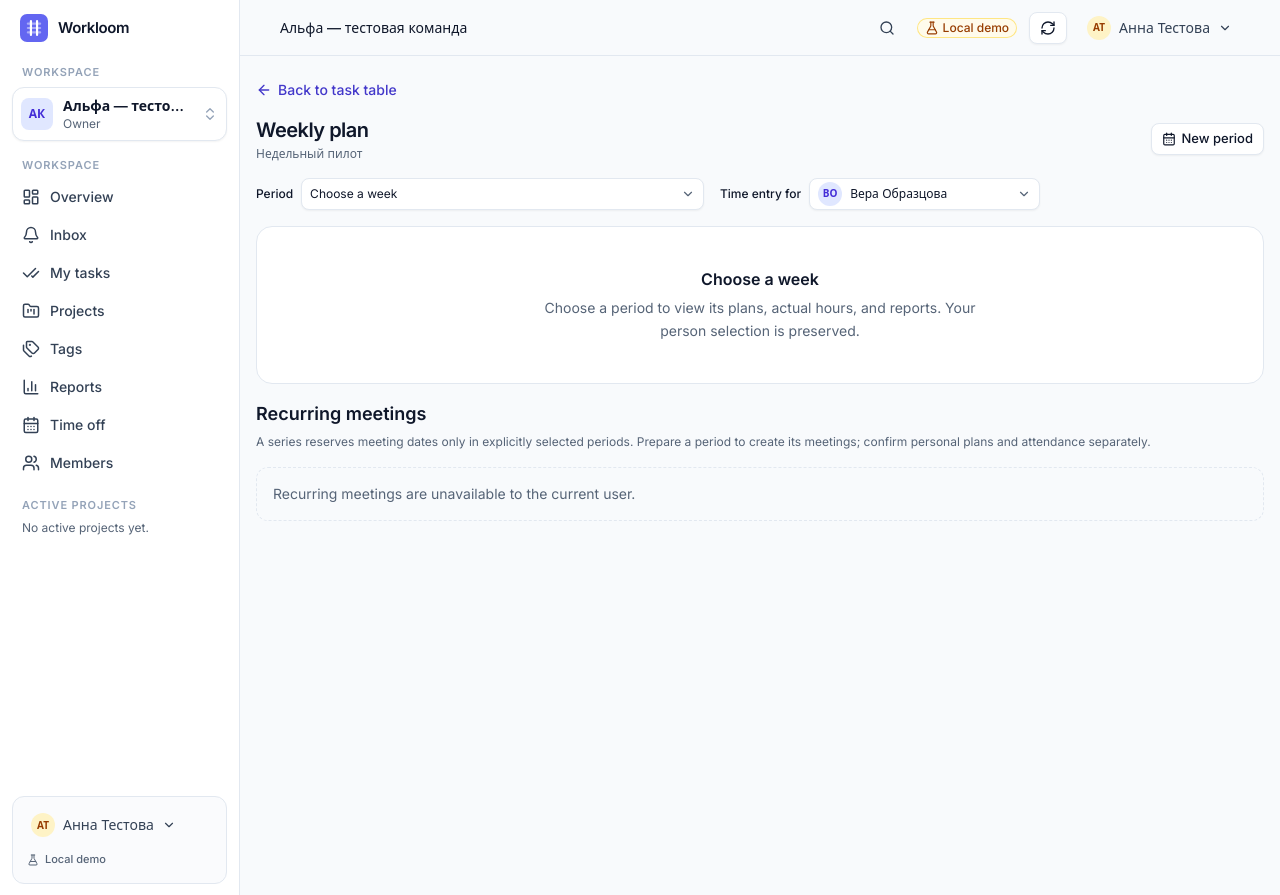
explicit weekly person and period context › keeps an unselected table week empty and carries the person back after an explicit week selection
Expected: the heading "Choose a week" is shown, [701,267,819,291]
Expected: the dropdown named "Time entry for" shows "Вера Образцова", [809,178,1040,210]
Click the dropdown named "Period".
click(354, 194)  # box [301,178,704,210]
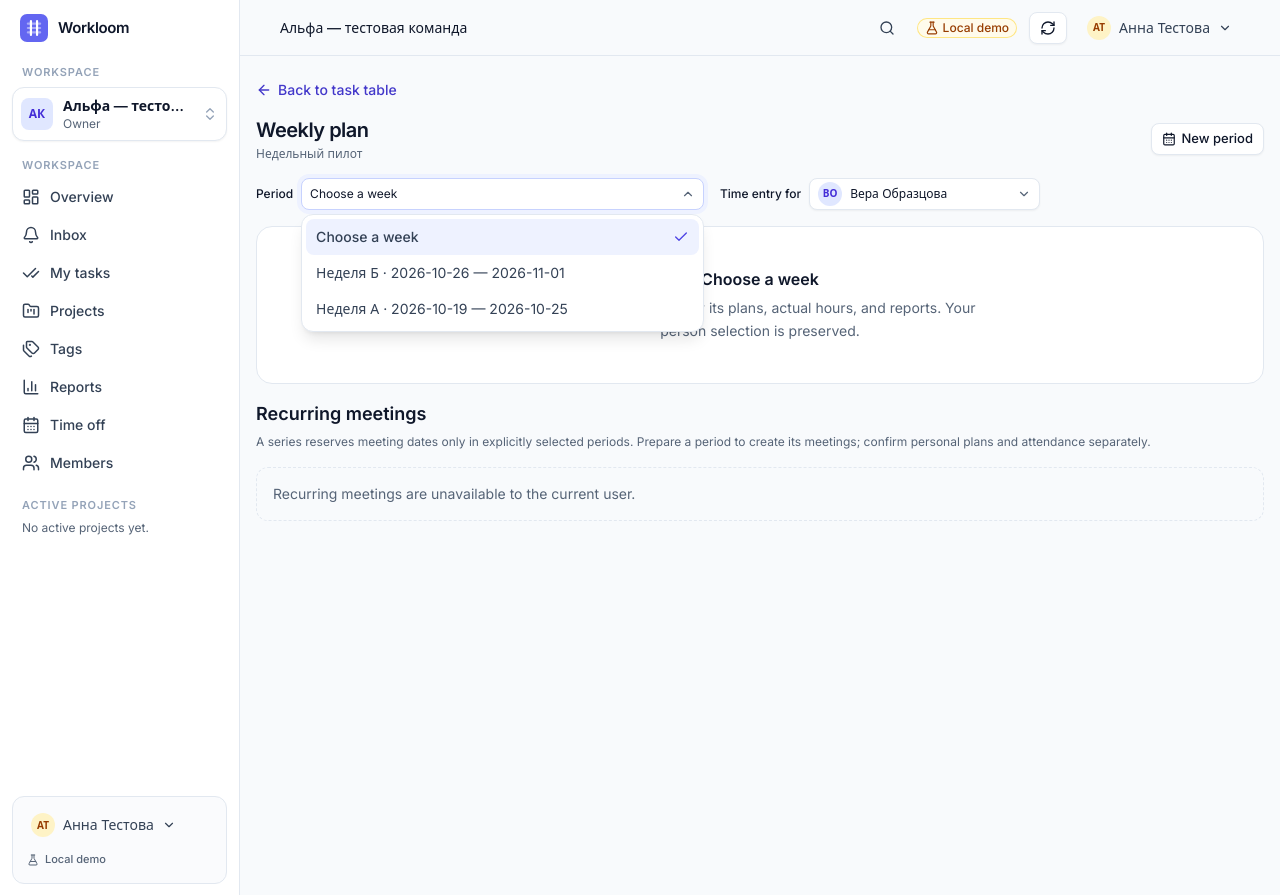
Click the option "Неделя Б · 2026-10-26 — 2026-11-01".
click(440, 272)  # box [316,264,565,281]
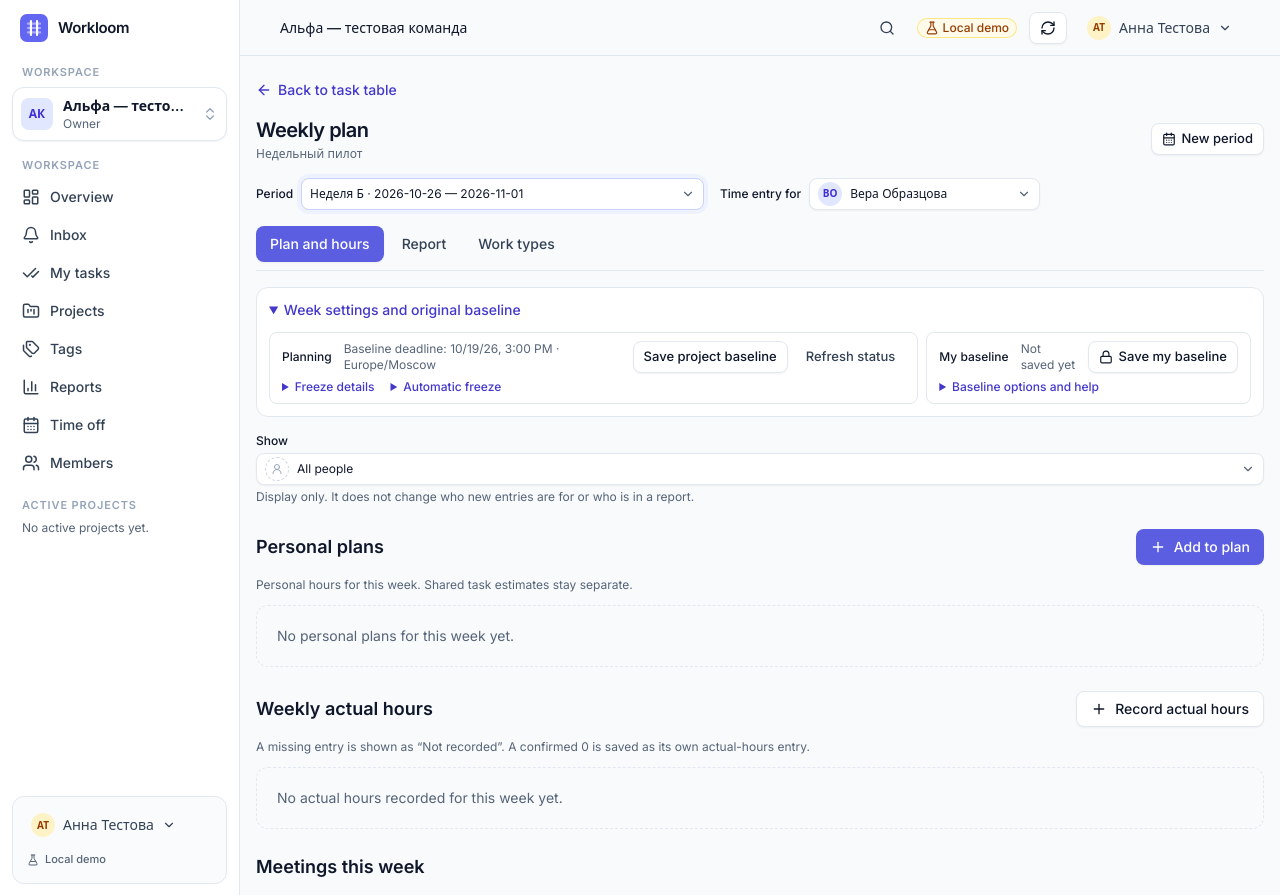
Expected: the button "Add to plan" is shown, [1136,529,1264,565]
